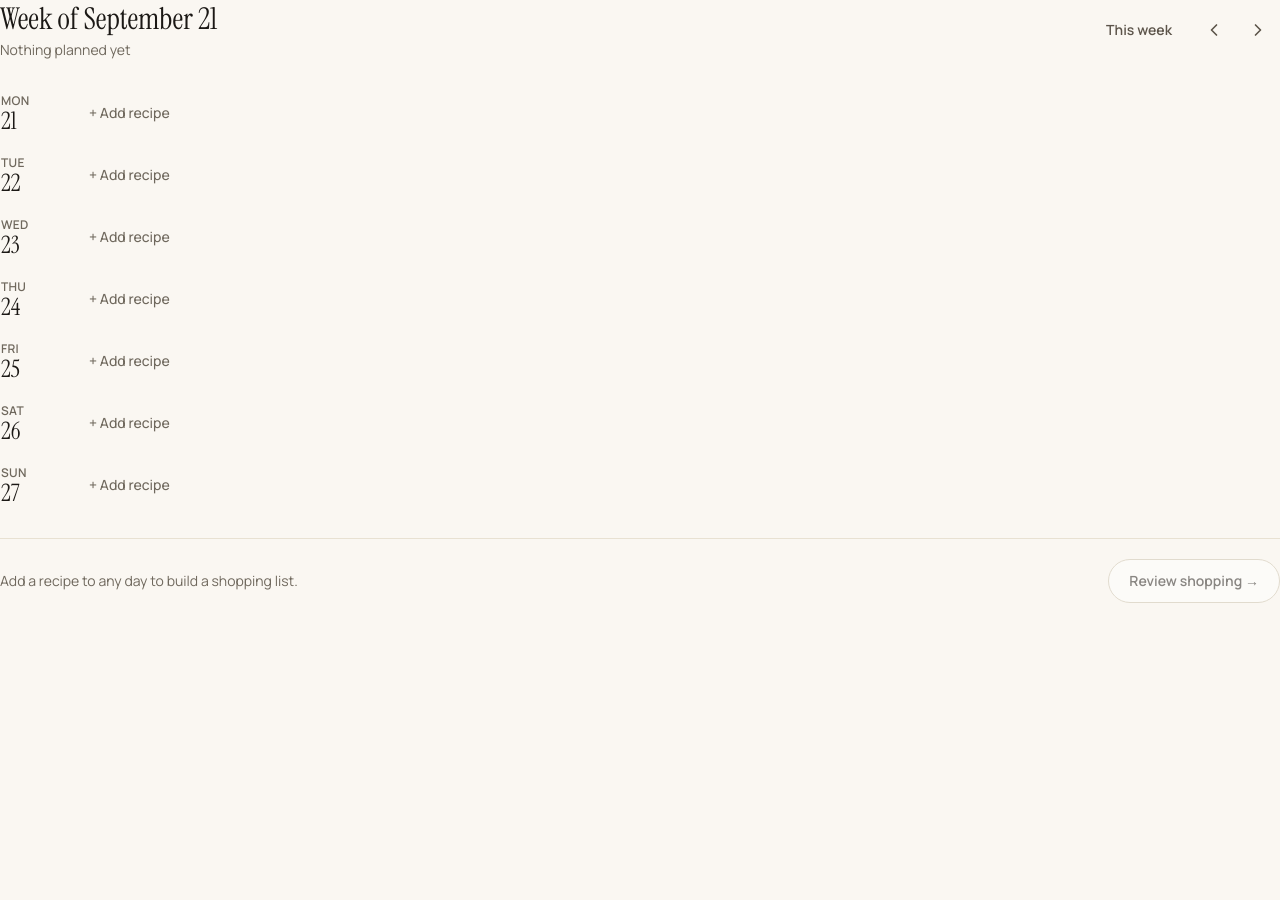
it: PlanView › opens the picker for the chosen day
This screenshot has width=1280, height=900.
Click the button "+ Add recipe" next to "Wed" at (129, 236), box [77,214,182,258]
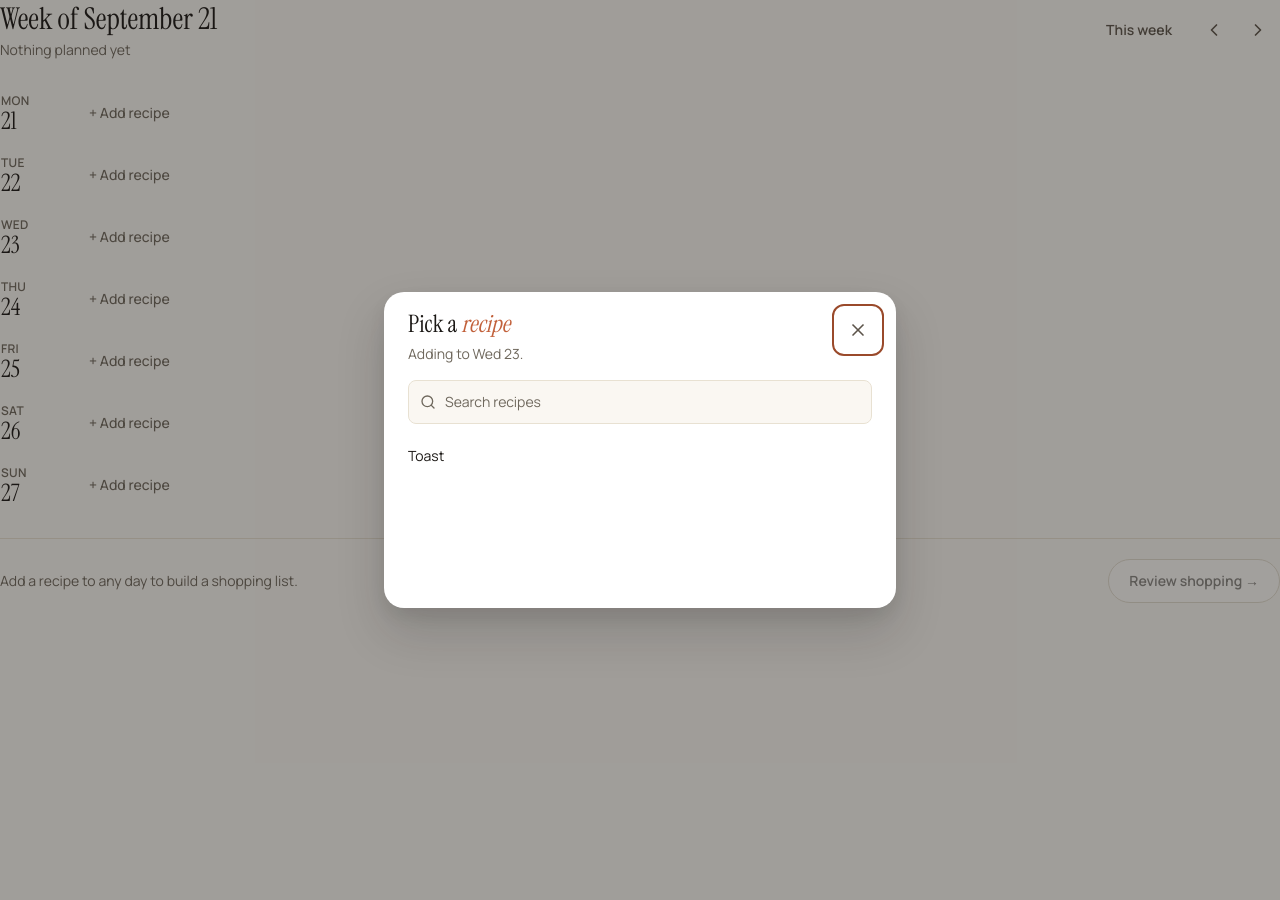
Result: the dialog "Pick a recipe" is shown at [384,292,896,608]
Result: the text "Adding to Wed 23." is shown at [408,344,523,364]
